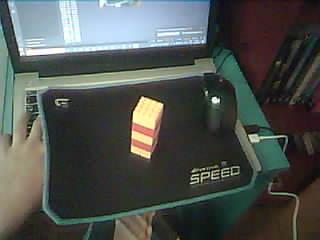lego: (130, 95, 164, 159)
